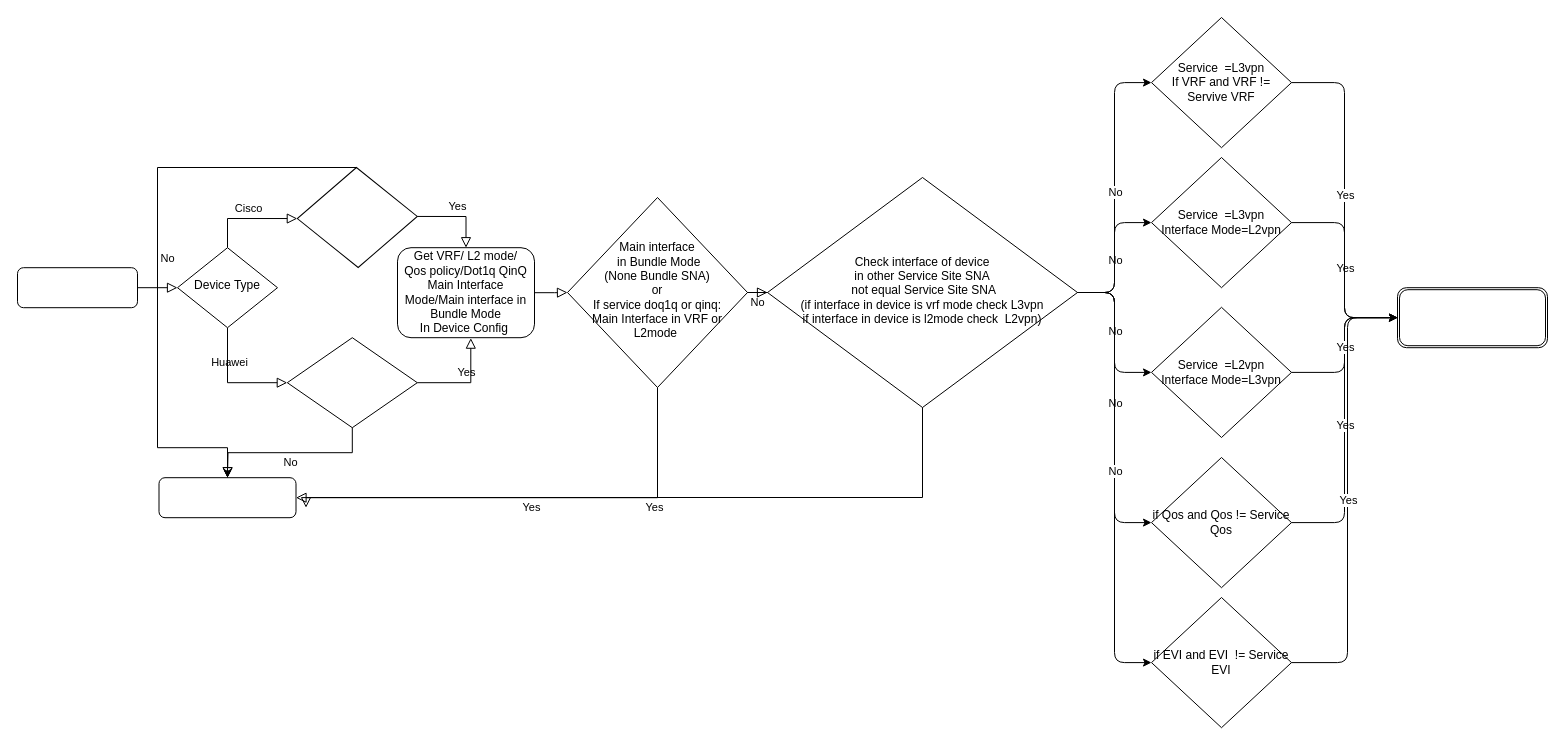
The diagram is 1565 pixels wide and 746 high, and some of its shapes have lost their labels. The centre of each missing label's shape, as x and y in pixels:
Check Main Interface in Device Config: the point at 351,382
Check Main Interface in Live Status: the point at 356,217
Exception: the point at 227,497
Exception Unmanaged Interface need to clean VRF QOS L2VPN Mode: the point at 1472,317
Validate interface: the point at 77,287
